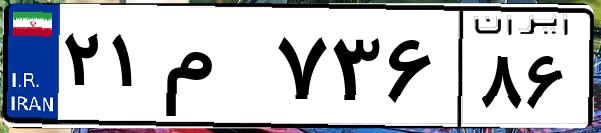1: (110, 28, 158, 98)
2: (57, 26, 110, 100)
3: (330, 28, 385, 110)
6: (385, 28, 445, 110), (525, 38, 570, 115)
7: (270, 28, 330, 110)
8: (475, 38, 525, 113)
م: (158, 20, 270, 120)
